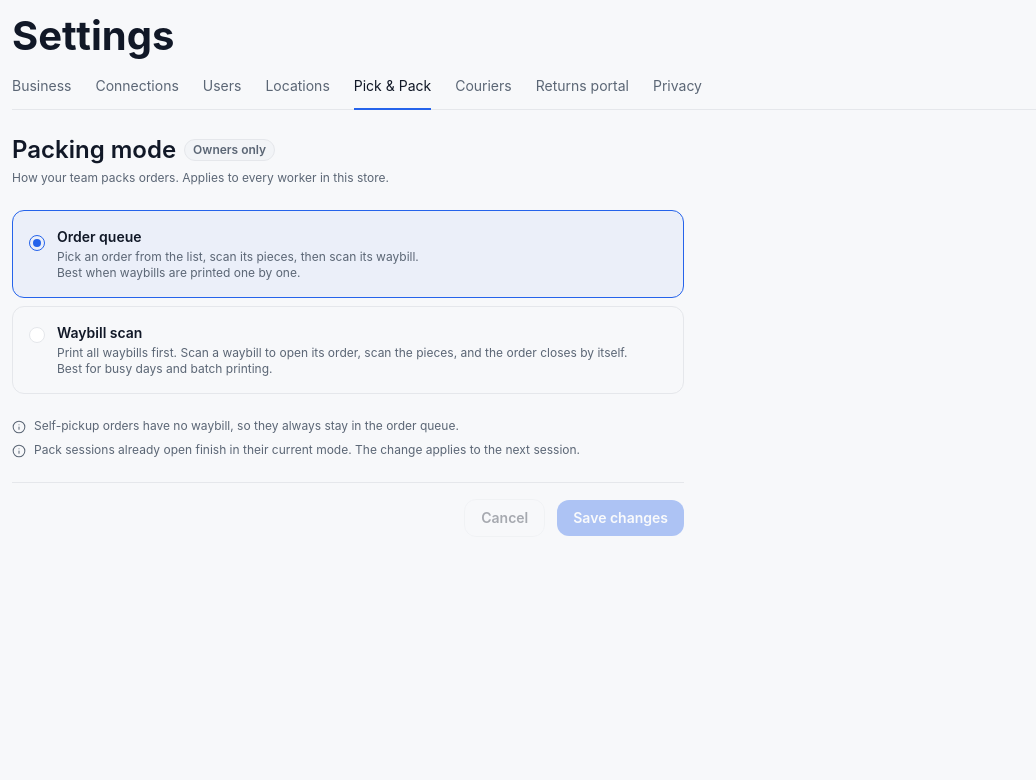
Test: Settings › Pick & Pack › owner switches to waybill scan and saves only the mode
Expected: the element with test id "pickpack-settings" is shown, [12, 134, 684, 537]
Expected: the text "Self-pickup orders have no waybill, so they always stay in the order queue." is shown, [12, 418, 459, 434]
Click the text "Waybill scan" at coordinates (100, 332), box [57, 324, 142, 341]
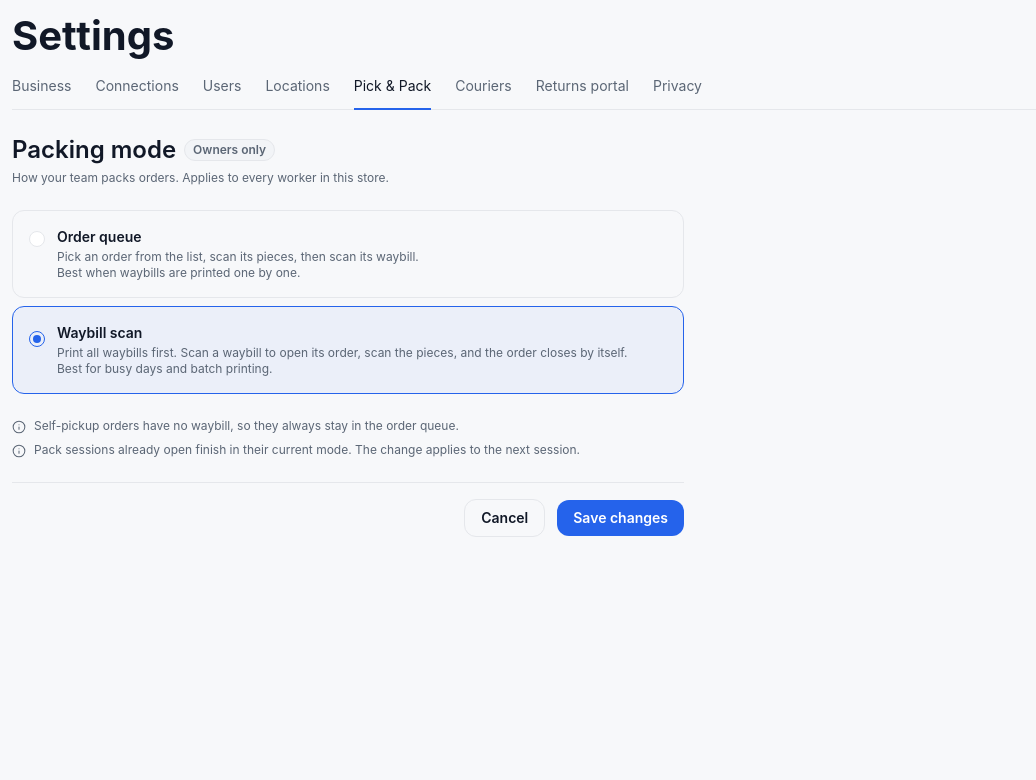
Now the button with test id "pickpack-save" is enabled
Click the button with test id "pickpack-save" at coordinates (621, 518), box [557, 500, 684, 536]
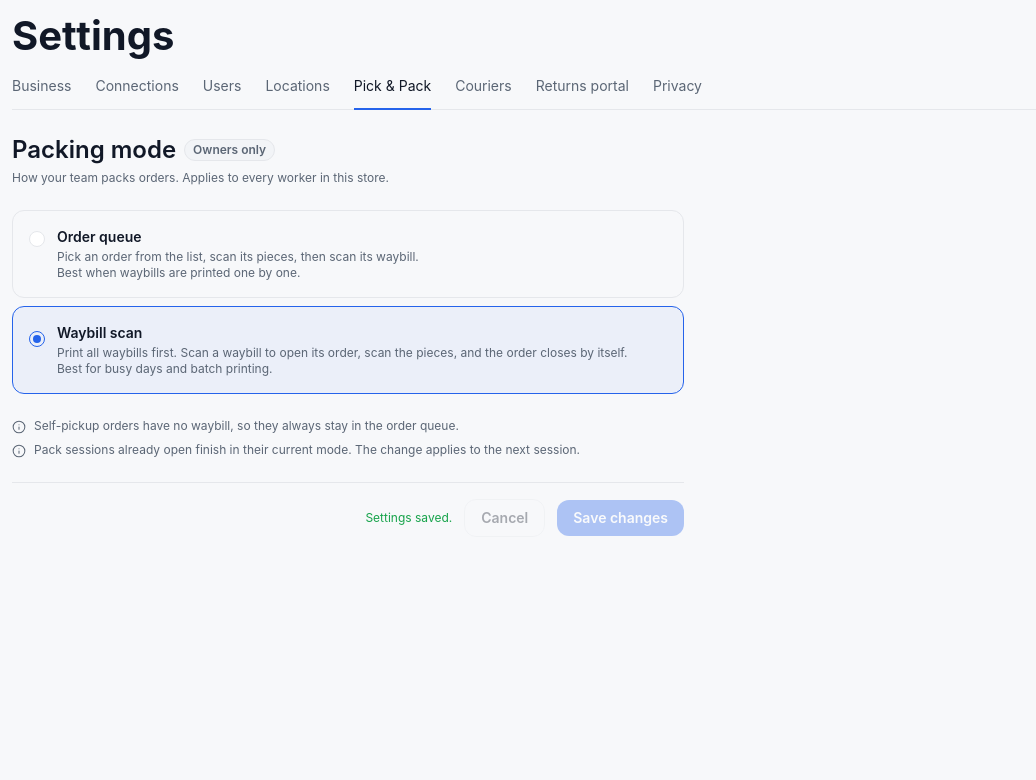
Now the text "Settings saved." is shown, box [365, 510, 452, 526]
